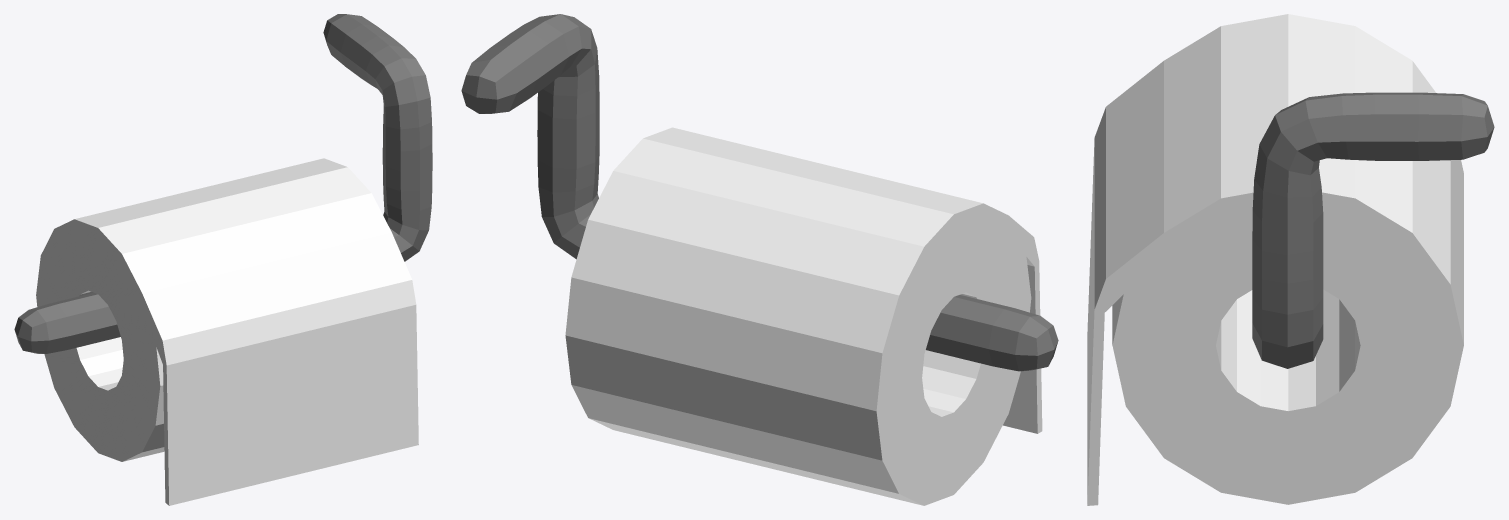
Rendered from Prop_ToiletPaper.fbx.
The picture shows the model from 3 angles, left to right: view 1: azimuth 30°, elevation 25°; view 2: azimuth 150°, elevation 25°; view 3: azimuth 270°, elevation 25°; orthographic projection. The views are drawn at different scales.
Visible parts, largest first — view 1: Prop_ToiletPaper; view 2: Prop_ToiletPaper; view 3: Prop_ToiletPaper.
Part boxes in pixels (<box>): Prop_ToiletPaper: <box>14,14,432,505</box>; Prop_ToiletPaper: <box>461,14,1058,505</box>; Prop_ToiletPaper: <box>1087,14,1494,505</box>.
Size of the model in its own units: 30.96 by 22.98 by 18.72.
